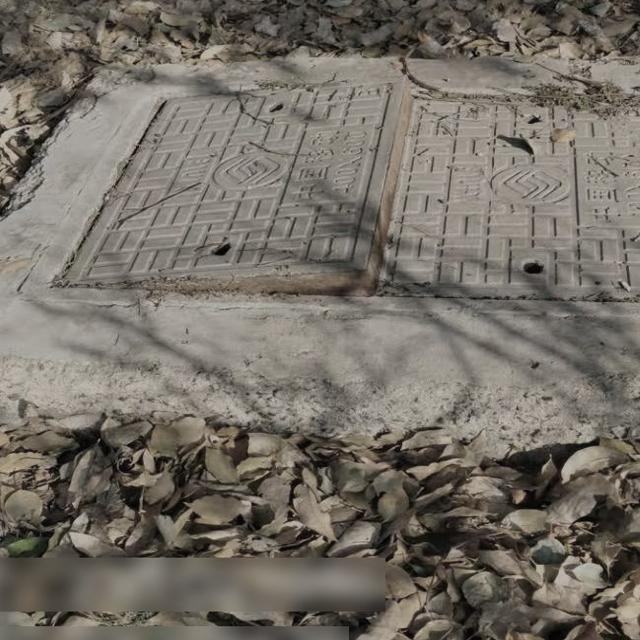uncovered: (21, 81, 640, 324)
